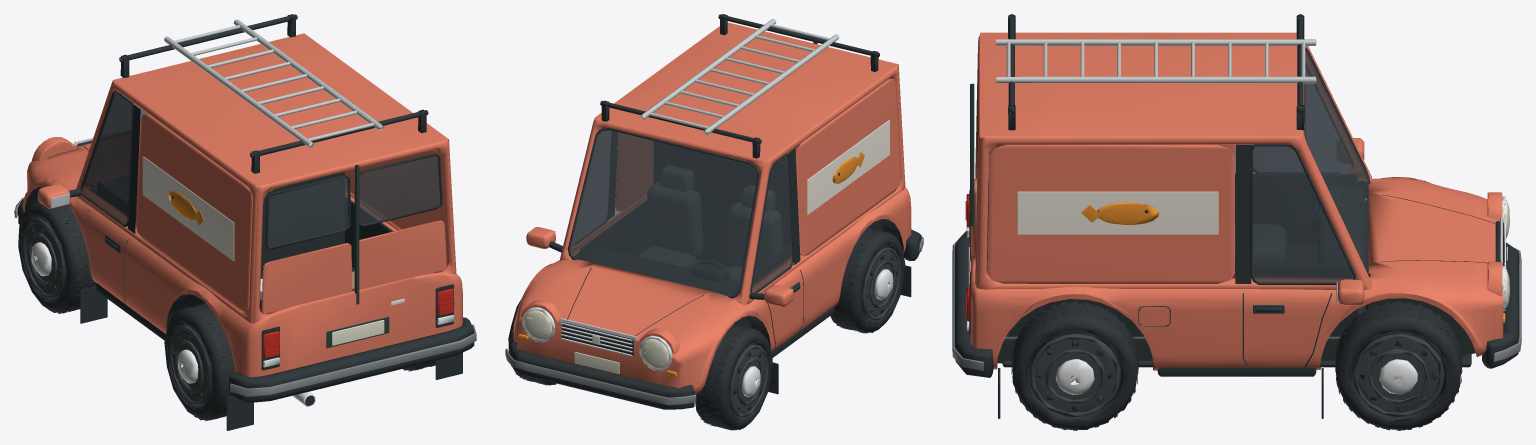
The model's file is kipper_lod2.fbx.
3 renders of one model, left to right at view 1: azimuth 30°, elevation 25°; view 2: azimuth 150°, elevation 25°; view 3: azimuth 270°, elevation 25°, orthographic. The views are drawn at different scales.
Visible parts, largest first — view 1: Body, Wheel_FL_Mesh, Wheel_RL_Mesh; view 2: Body, Wheel_FL_Mesh, Wheel_RL_Mesh; view 3: Body, Wheel_FR_Mesh, Wheel_RR_Mesh.
Boxes of the visible parts, box(x1,y1,x2,y2) form: Body: box(14, 14, 476, 430); Wheel_FL_Mesh: box(18, 201, 96, 313); Wheel_RL_Mesh: box(164, 303, 235, 421); Body: box(505, 14, 923, 409); Wheel_FL_Mesh: box(695, 324, 772, 430); Wheel_RL_Mesh: box(830, 227, 905, 333); Body: box(952, 14, 1521, 418); Wheel_FR_Mesh: box(1335, 301, 1462, 430); Wheel_RR_Mesh: box(1011, 301, 1138, 430).
Bounding box in the file's own units: 231 × 216 × 359.
